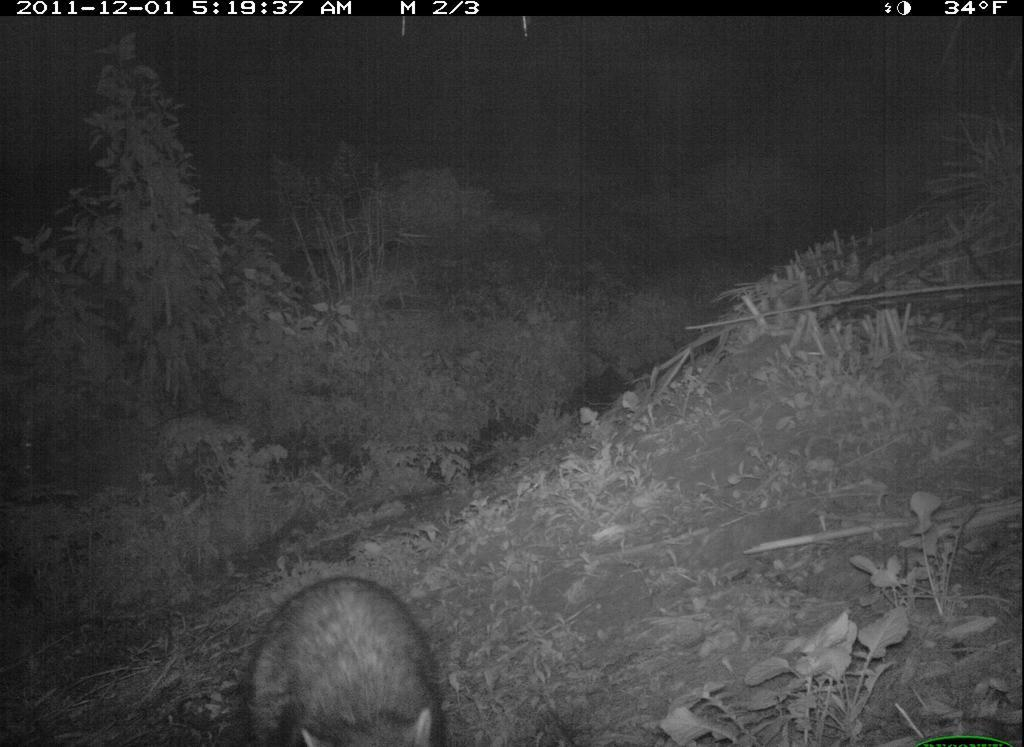raccoon: (217, 564, 437, 747)
